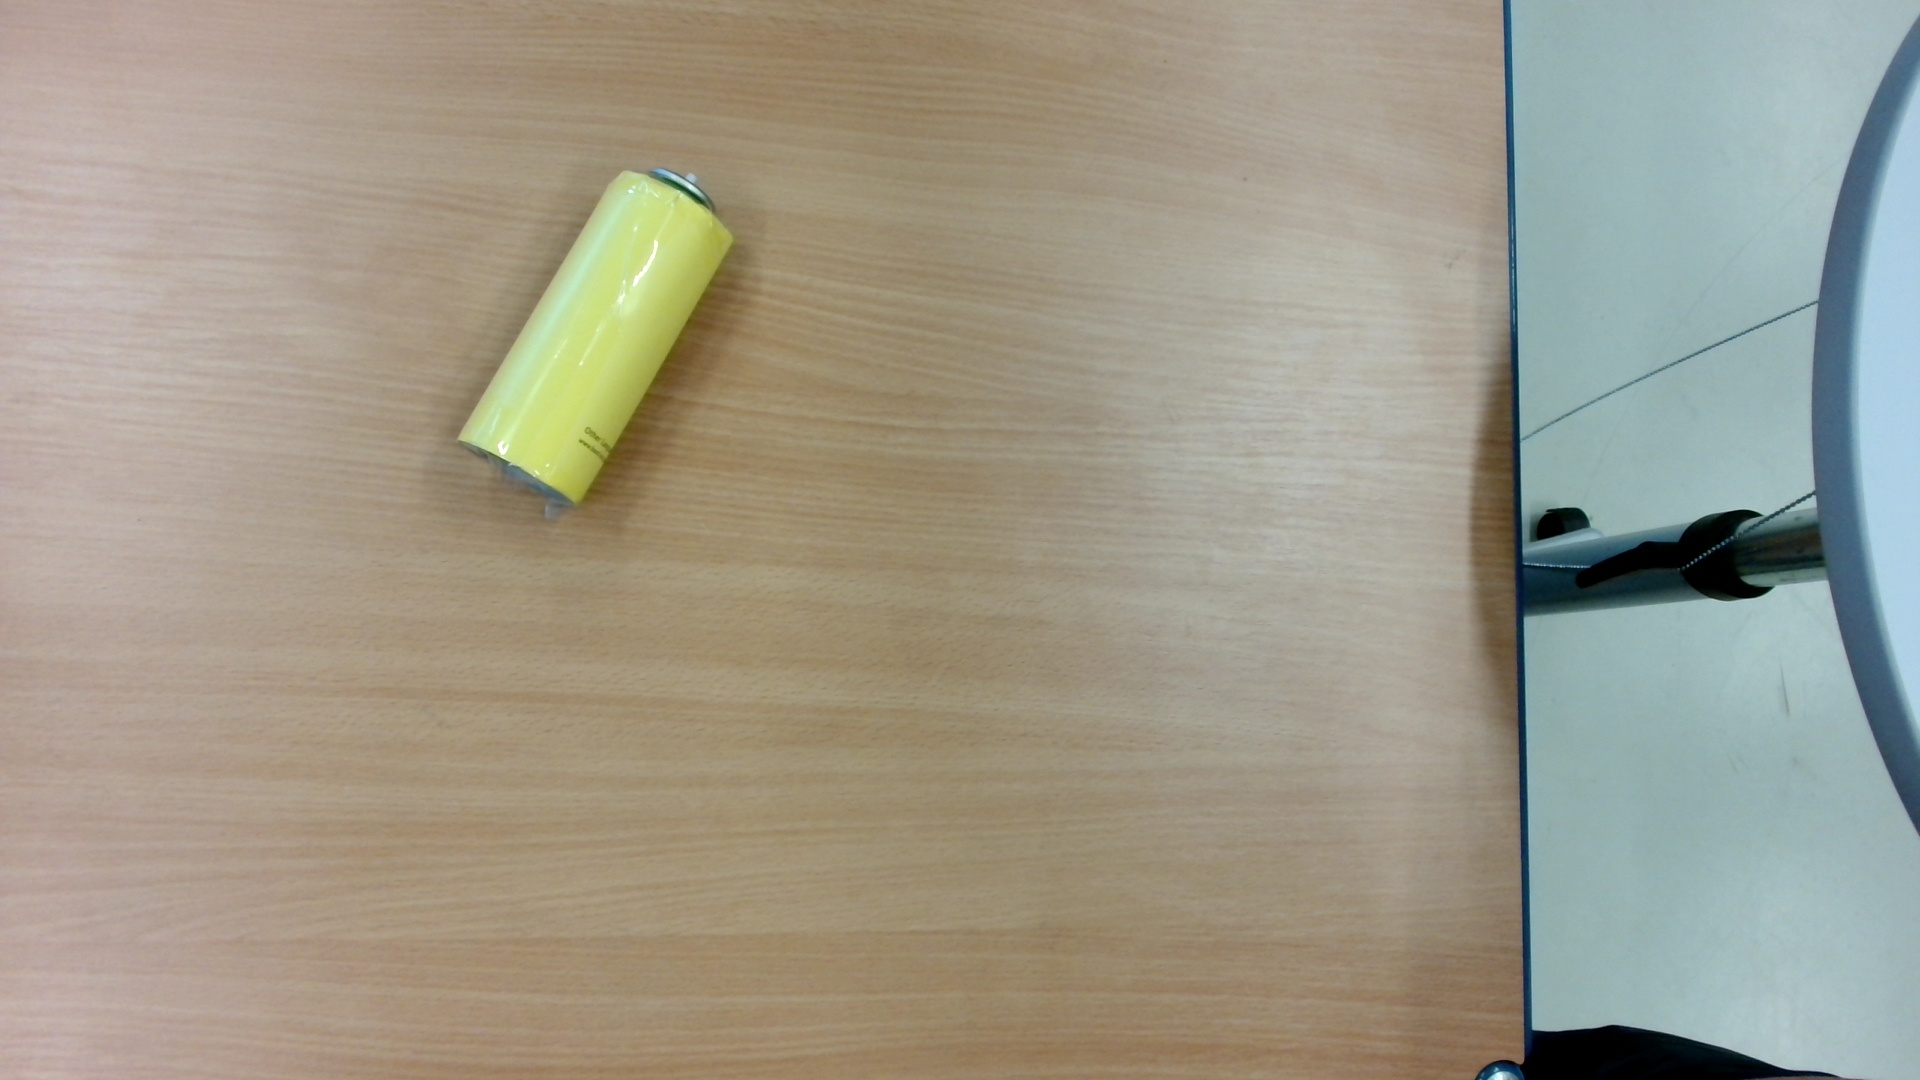Cylinder: (447, 156, 765, 530)
